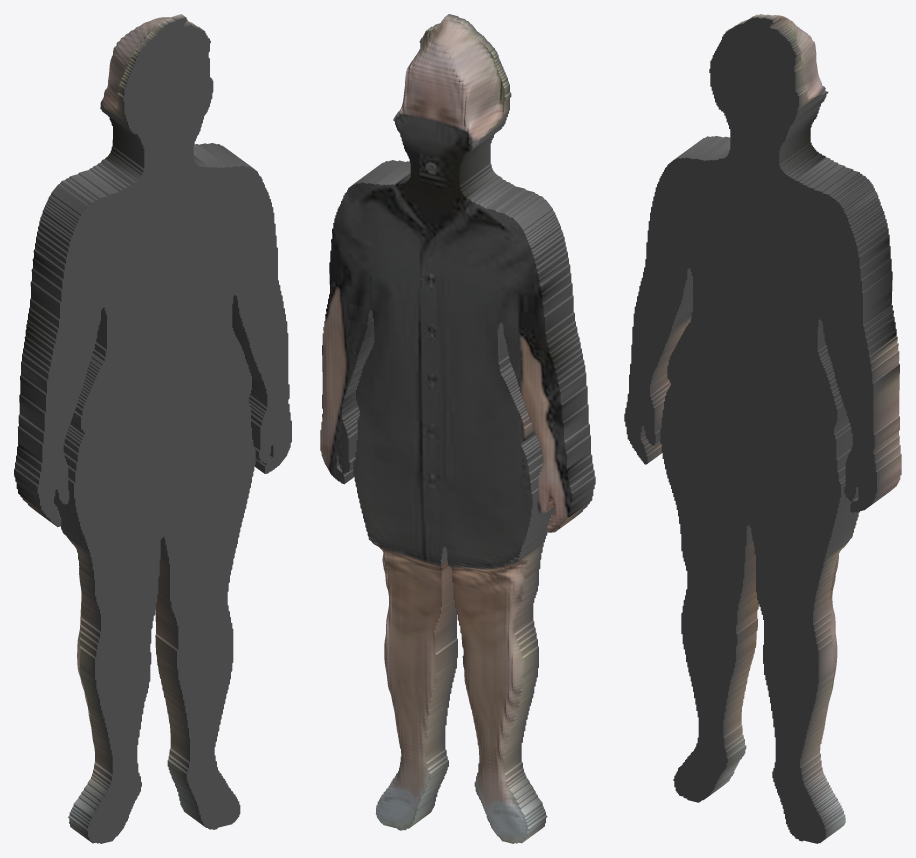
Rendered from avatar_205216.glb.
3 views of the same model, side by side, from view 1: azimuth 30°, elevation 25°; view 2: azimuth 150°, elevation 25°; view 3: azimuth 330°, elevation 25° (orthographic).
Visible parts, largest first — view 1: world; view 2: world; view 3: world.
Boxes of the visible parts, x1,y1,x2,y2 form: world: (14, 14, 291, 843); world: (320, 14, 595, 843); world: (624, 14, 901, 843).
Bounding box in the file's own units: 39.06 × 120 × 8.49.
